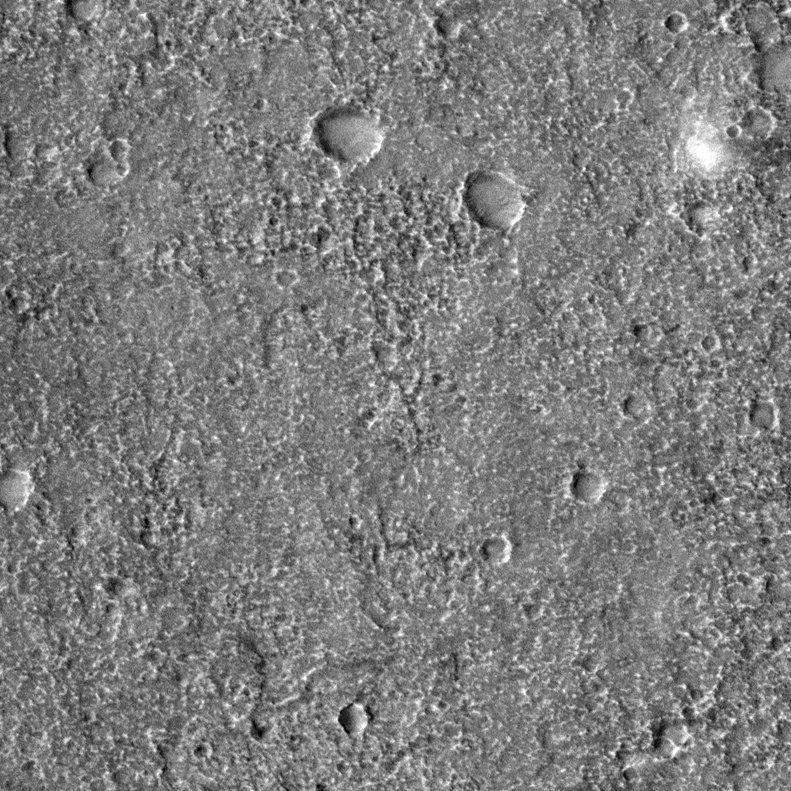dust_devil: (683, 119, 789, 176)
